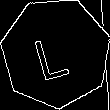L_N: (34, 25, 78, 81)
